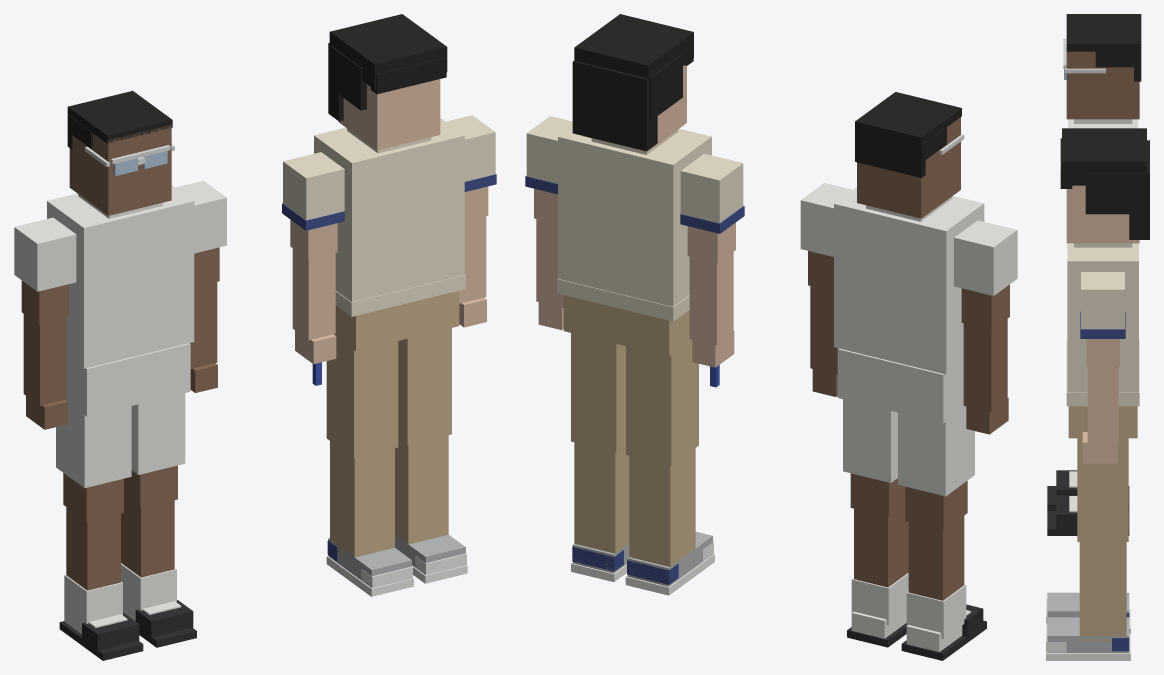
File: labmates.glb
3 renders of one model, left to right at view 1: azimuth 30°, elevation 25°; view 2: azimuth 150°, elevation 25°; view 3: azimuth 270°, elevation 25°, orthographic. The views are drawn at different scales.
Parts seen in each view (by area): view 1: p2_torso, p1_torso, p2_head, p1_head, p2_thighR, p1_thighR, p2_shinR, p2_hips, p1_hips, p1_shinR, p2_thighL, p1_thighL (+14 smaller); view 2: p2_torso, p1_torso, p2_head, p1_head, p2_thighR, p1_thighR, p2_shinR, p2_hips, p1_hips, p1_shinR, p2_thighL, p1_shinL (+14 smaller); view 3: p2_head, p1_head, p2_torso, p2_shinL, p2_thighL, p2_uarmL, p2_farmL, p2_footL, p2_hips, p1_footL, p2_footR, p1_footR (+1 smaller).
Boxes of the visible parts, <box> form: p2_torso: <box>314,118,464,302</box>; p1_torso: <box>47,185,194,368</box>; p2_head: <box>328,14,447,150</box>; p1_head: <box>67,91,174,215</box>; p2_thighR: <box>326,337,398,458</box>; p1_thighR: <box>56,403,131,521</box>; p2_shinR: <box>330,441,394,562</box>; p2_hips: <box>334,274,465,351</box>; p1_hips: <box>65,343,190,416</box>; p1_shinR: <box>64,507,122,624</box>; p2_thighL: <box>398,328,451,445</box>; p1_thighL: <box>124,393,185,508</box>; p2_torso: <box>558,126,711,306</box>; p1_torso: <box>834,187,984,374</box>; p2_head: <box>572,14,693,151</box>; p1_head: <box>855,92,964,218</box>; p2_thighR: <box>626,340,698,465</box>; p1_thighR: <box>898,407,974,530</box>; p2_shinR: <box>629,448,695,566</box>; p2_hips: <box>557,278,691,356</box>; p1_hips: <box>837,348,966,423</box>; p1_shinR: <box>906,516,966,638</box>; p2_thighL: <box>571,333,625,452</box>; p1_shinL: <box>851,505,908,625</box>; p2_head: <box>1060,128,1149,243</box>; p1_head: <box>1063,14,1141,119</box>; p2_torso: <box>1067,243,1138,392</box>; p2_shinL: <box>1079,542,1126,641</box>; p2_thighL: <box>1077,438,1128,541</box>; p2_uarmL: <box>1080,272,1125,366</box>; p2_farmL: <box>1082,367,1118,463</box>; p2_footL: <box>1046,617,1130,660</box>; p2_hips: <box>1066,340,1139,438</box>; p1_footL: <box>1047,495,1129,535</box>; p2_footR: <box>1046,592,1130,633</box>; p1_footR: <box>1047,470,1129,510</box>.
Size of the model in its own units: 1.71 by 1.86 by 0.355.
